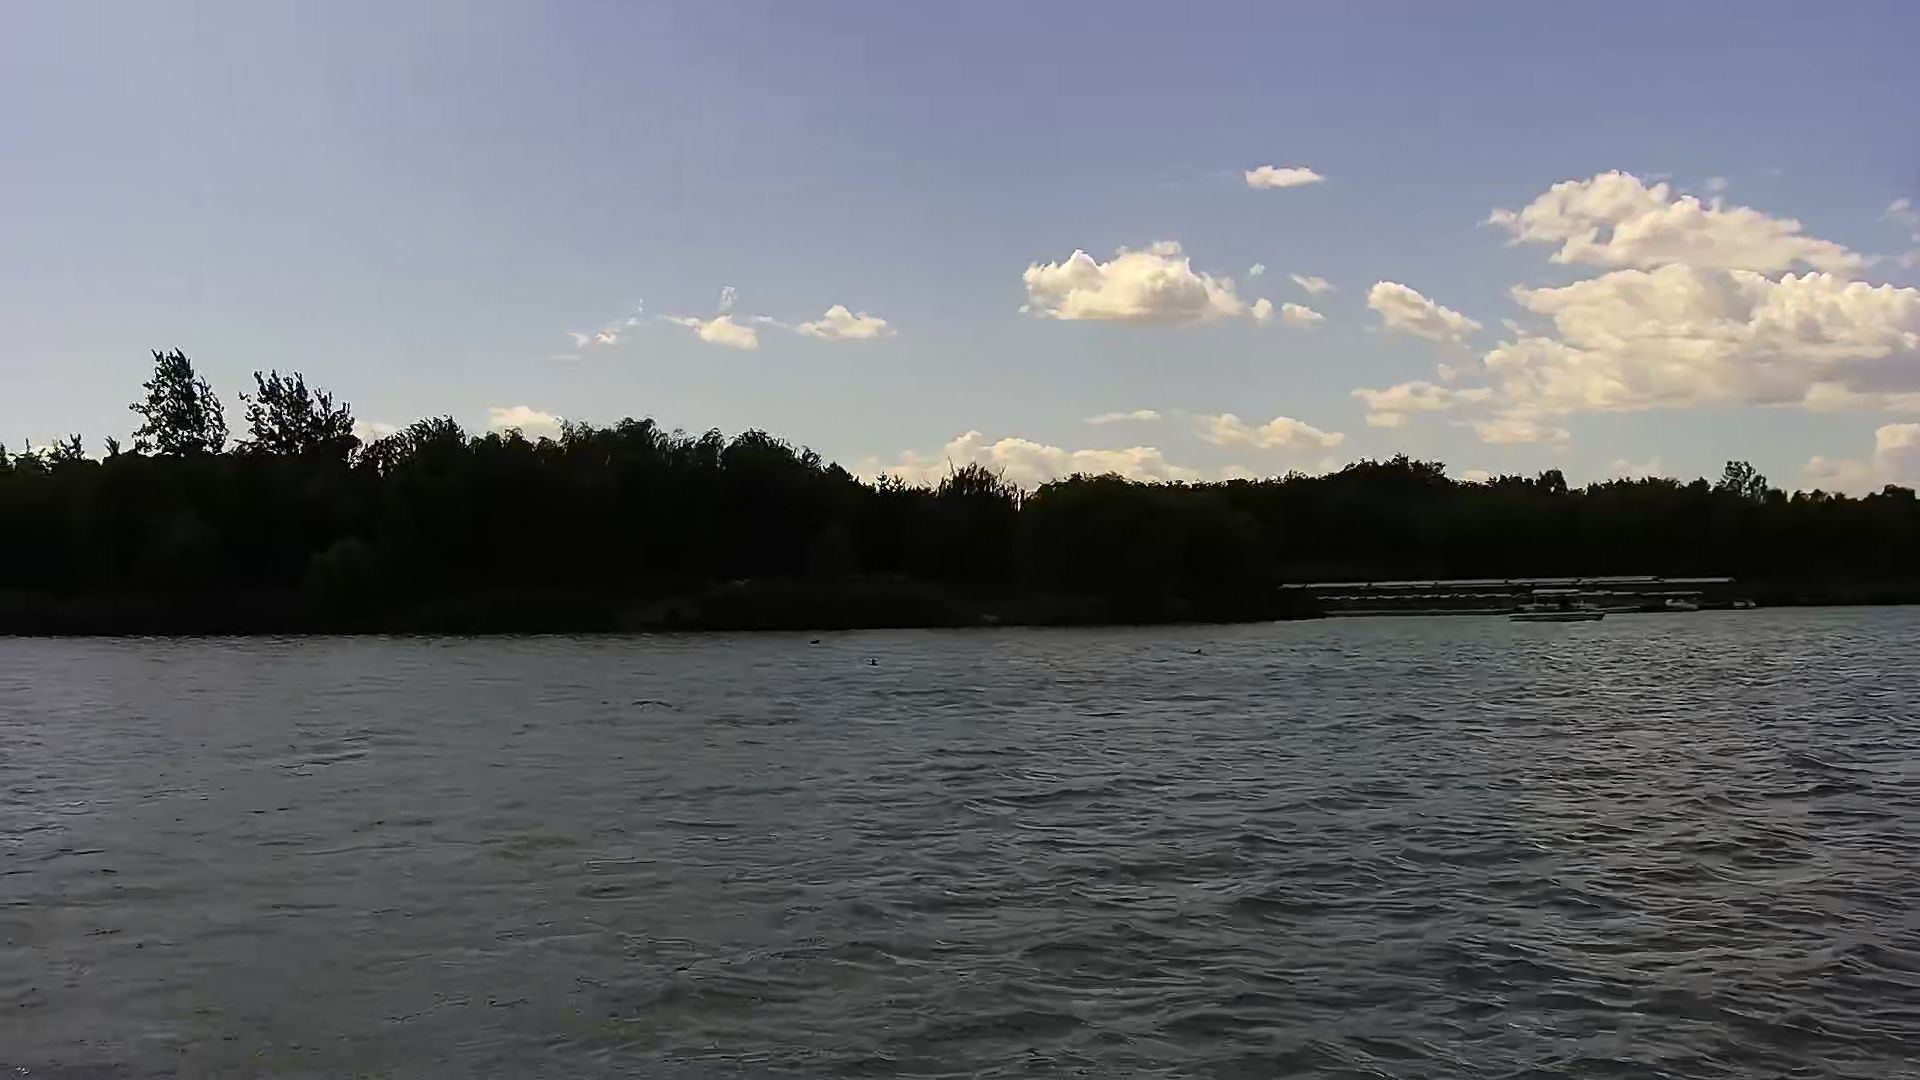boat: (1505, 583, 1610, 629)
harbor: (1278, 575, 1750, 618)
